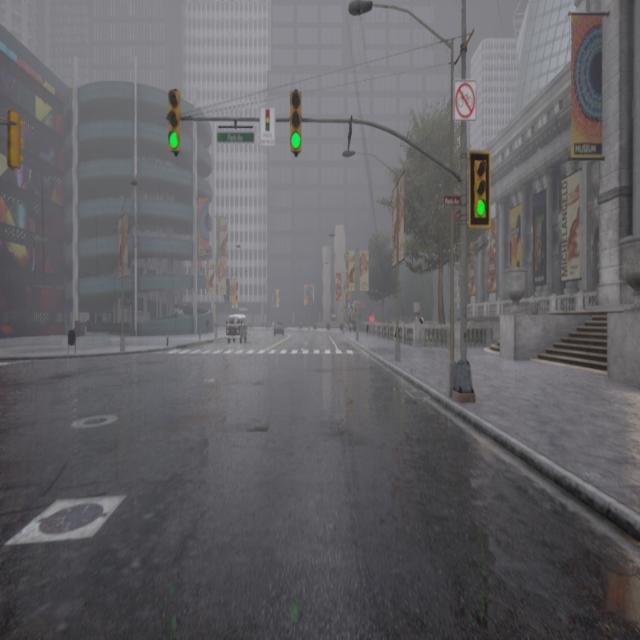11: (454, 80, 478, 124)
bien_chi_dan: (472, 198, 486, 220), (291, 134, 300, 147), (170, 132, 178, 146)
bien_nguy_hiem: (464, 154, 494, 233), (286, 85, 308, 158), (165, 88, 185, 161)
